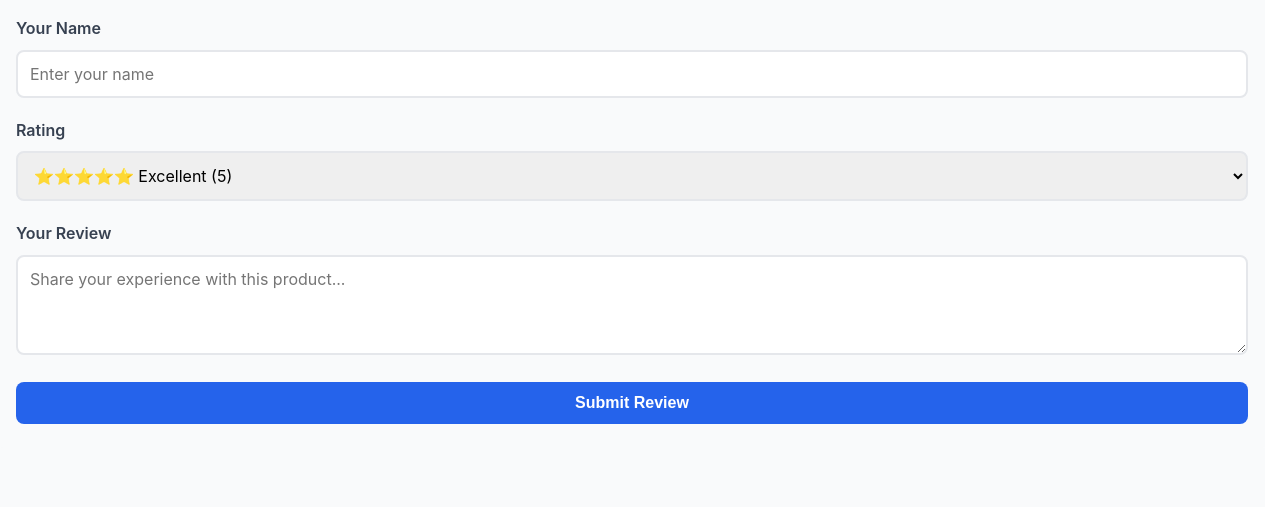
Scenario: ReviewForm › shows error message when submission fails
The image size is (1265, 507).
Type "John Doe" into the field labelled "Your Name".
click(632, 74); type("John Doe")  # box x1=16 y1=50 x2=1248 y2=98
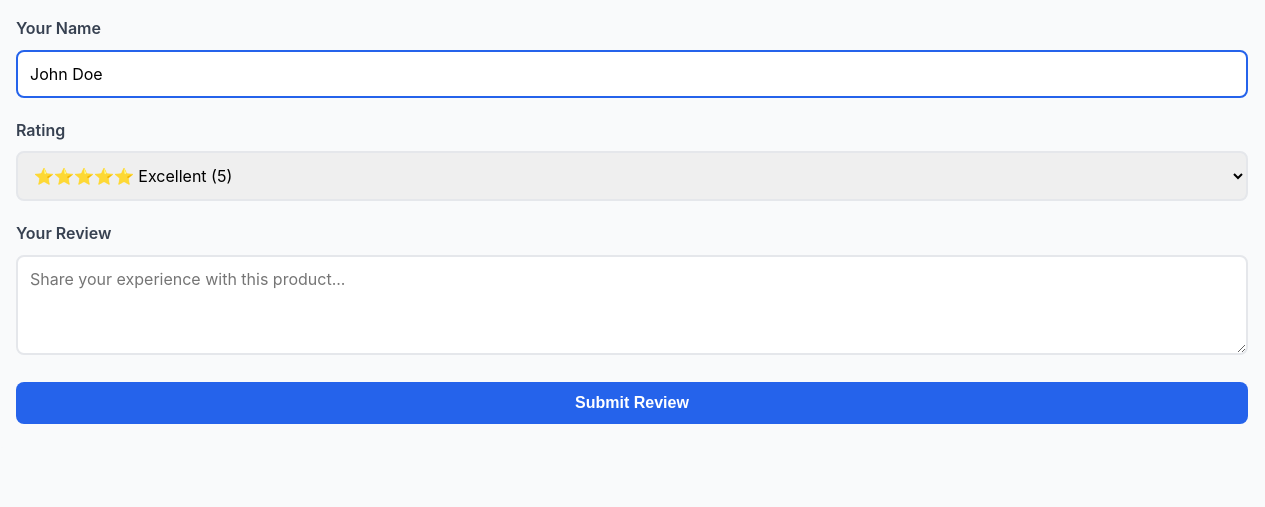
Type "Great product!" into the text box labelled "Your Review".
click(632, 305); type("Great product!")  # box x1=16 y1=255 x2=1248 y2=355
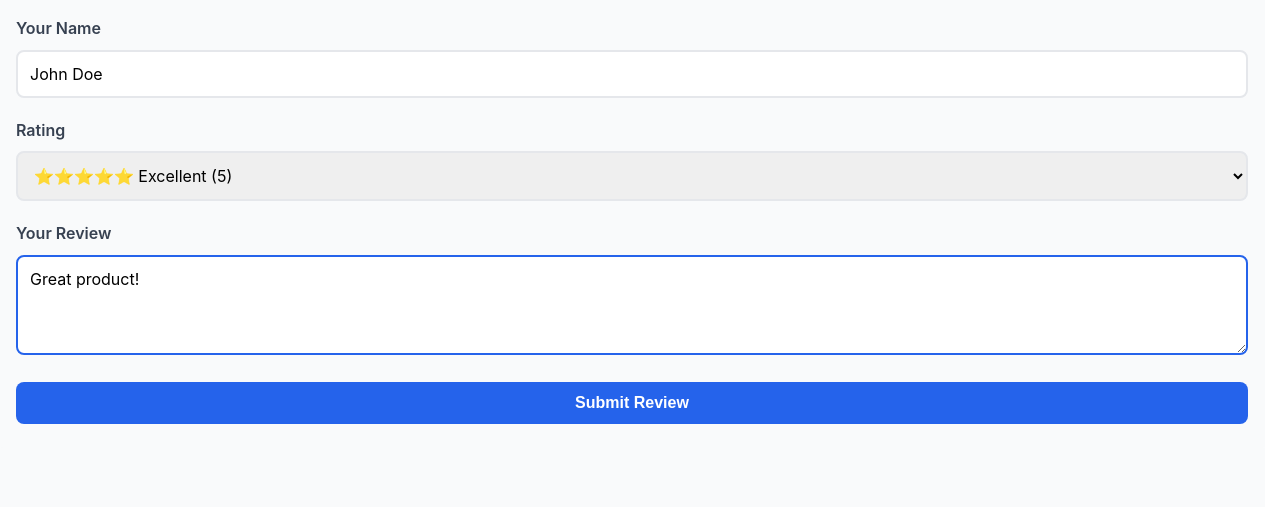
Click the button "Submit Review".
click(632, 403)  # box x1=16 y1=382 x2=1248 y2=424
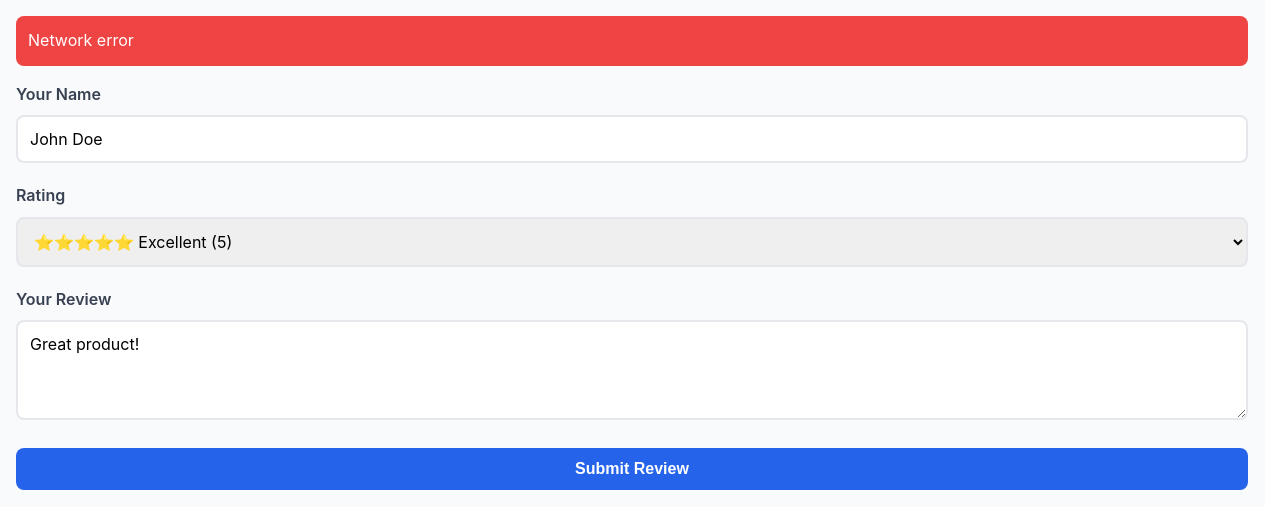
Now the text "Network error" is shown, box x1=16 y1=16 x2=1248 y2=66
